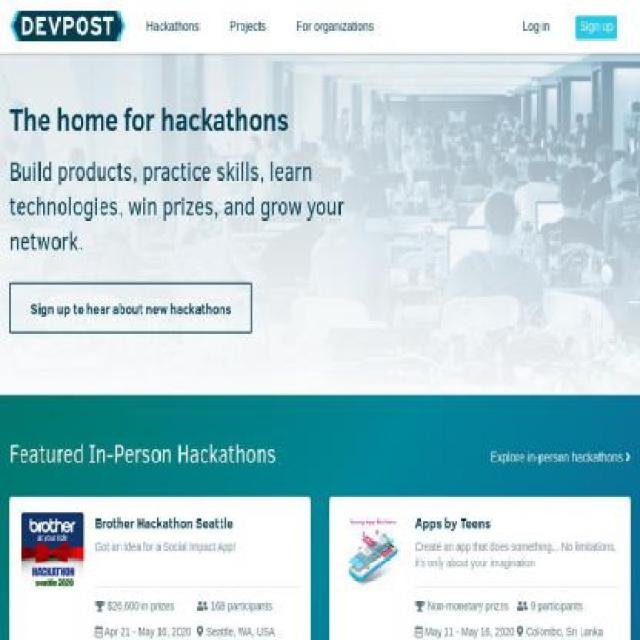button: (9, 496, 311, 639), (329, 496, 631, 639), (9, 282, 252, 333), (282, 1, 389, 53), (132, 1, 215, 53), (562, 1, 630, 53), (214, 1, 281, 53), (509, 1, 563, 53), (489, 449, 631, 465), (0, 19, 131, 33)
